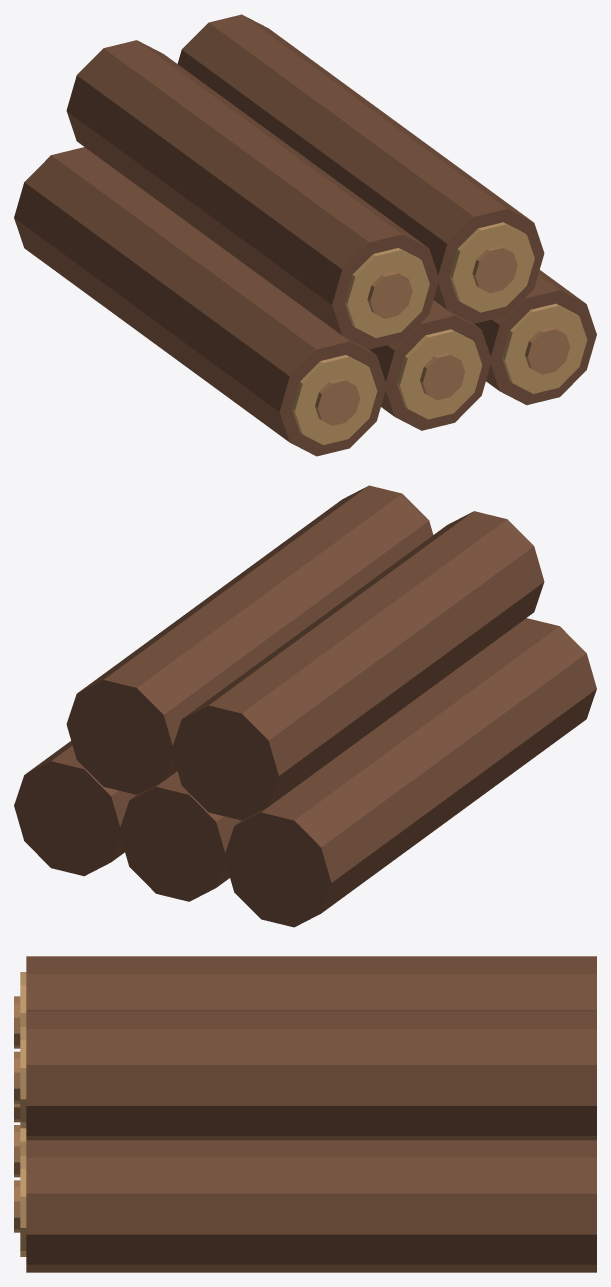
The model's file is log-stack.glb.
3 renders of one model, top to bottom at view 1: azimuth 30°, elevation 25°; view 2: azimuth 150°, elevation 25°; view 3: azimuth 270°, elevation 25°, orthographic. The views are drawn at different scales.
Parts seen in each view (by area): view 1: log-stack; view 2: log-stack; view 3: log-stack.
Boxes of the visible parts, box(x1,y1,x2,y2) form: log-stack: box(14, 14, 596, 456); log-stack: box(14, 485, 596, 927); log-stack: box(14, 956, 596, 1272).
Size of the model in its own units: 2.54 by 1.54 by 3.76.
